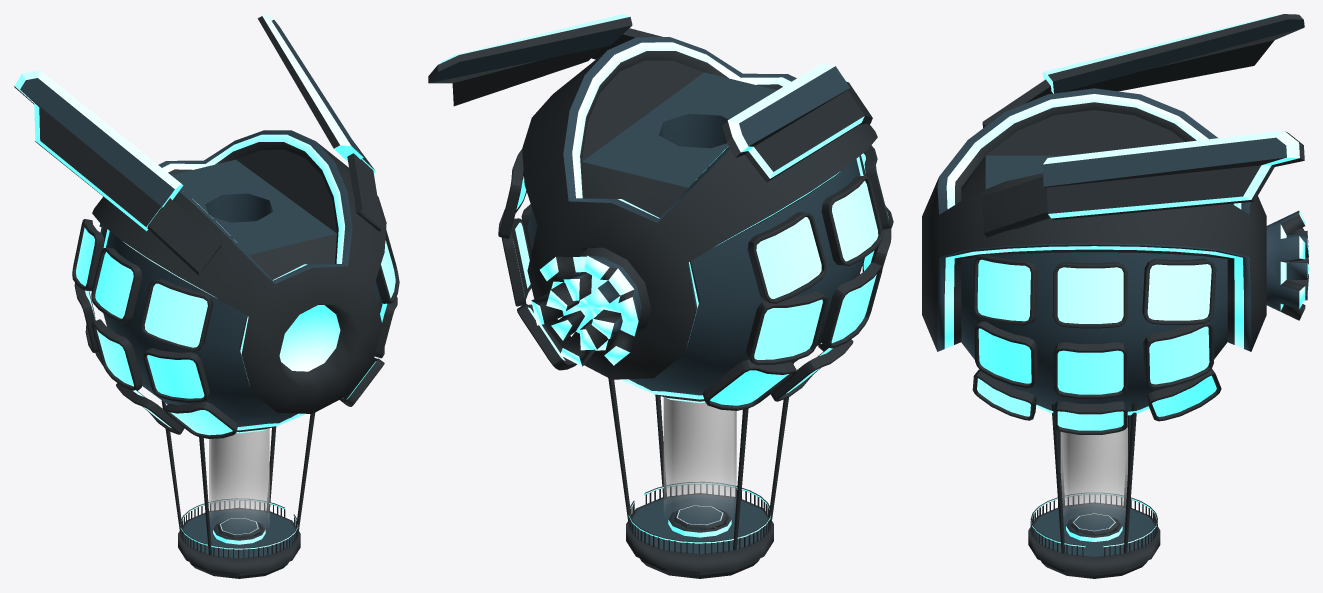
File: aero-airship-01.glb
3 views of the same model, side by side, from view 1: azimuth 30°, elevation 25°; view 2: azimuth 150°, elevation 25°; view 3: azimuth 270°, elevation 25° (orthographic). The views are drawn at different scales.
Visible parts, largest first — view 1: Aero_Airship_01, Aero_airship_screens_01, Aero_airship_wing_02, Aero_airship_base_01, ray, Aero_airship_wing_01, Aero_elevator_01; view 2: Aero_Airship_01, Aero_airship_screens_01, Aero_airship_base_01, Aero_airship_wing_02, Aero_airship_wing_01, ray, Aero_elevator_01; view 3: Aero_Airship_01, Aero_airship_screens_01, Aero_airship_wing_01, Aero_airship_wing_02, Aero_airship_base_01, ray, Aero_elevator_01.
Part boxes in pixels (x1,y1,x2,y2): Aero_Airship_01: [92, 130, 386, 555]; Aero_airship_screens_01: [72, 219, 399, 438]; Aero_airship_wing_02: [14, 70, 221, 275]; Aero_airship_base_01: [178, 498, 300, 578]; ray: [209, 428, 269, 528]; Aero_airship_wing_01: [257, 14, 382, 231]; Aero_elevator_01: [217, 517, 260, 538]; Aero_Airship_01: [522, 37, 877, 550]; Aero_airship_screens_01: [498, 145, 893, 410]; Aero_airship_base_01: [626, 482, 773, 578]; Aero_airship_wing_02: [722, 63, 872, 182]; Aero_airship_wing_01: [428, 14, 662, 106]; ray: [663, 397, 736, 518]; Aero_elevator_01: [674, 505, 725, 529]; Aero_Airship_01: [922, 88, 1308, 553]; Aero_airship_screens_01: [972, 254, 1221, 434]; Aero_airship_wing_01: [982, 130, 1304, 237]; Aero_airship_wing_02: [982, 14, 1304, 127]; Aero_airship_base_01: [1028, 493, 1160, 578]; ray: [1060, 417, 1127, 525]; Aero_elevator_01: [1070, 513, 1118, 535].
Bounding box in the file's own units: 14.68 × 23.21 × 16.61.
Materials: 6 (4 with a texture image).
